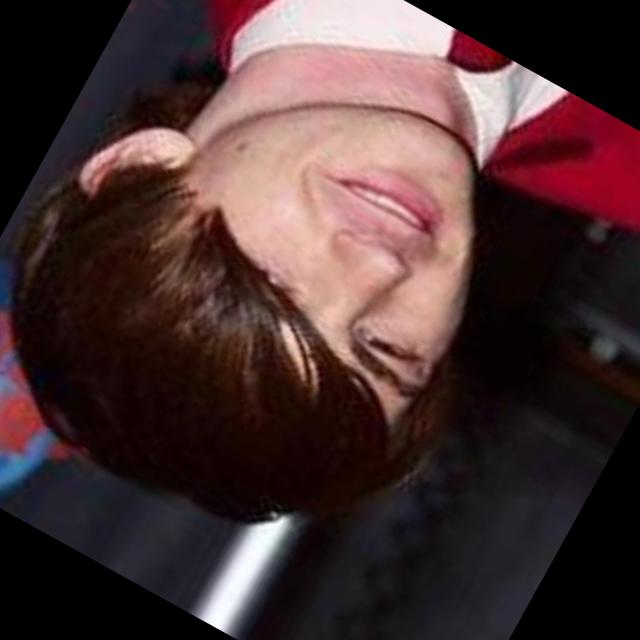bareface: (0, 0, 570, 608)
